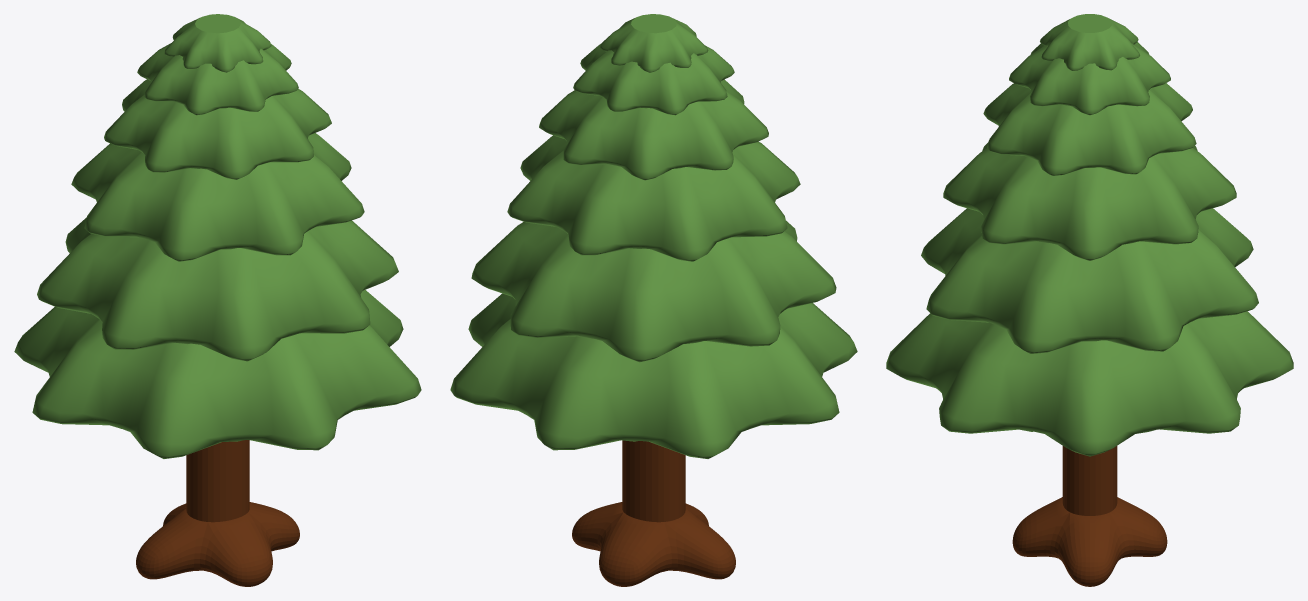
Rendered from tree04.fbx.
The picture shows the model from 3 angles, left to right: view 1: azimuth 30°, elevation 25°; view 2: azimuth 150°, elevation 25°; view 3: azimuth 270°, elevation 25°; orthographic projection.
Parts seen in each view (by area): view 1: Root, Root.001; view 2: Root, Root.001; view 3: Root, Root.001.
Boxes of the visible parts, box(x1,y1,x2,y2) form: Root: box(14, 14, 421, 522); Root.001: box(136, 502, 299, 586); Root: box(450, 14, 857, 522); Root.001: box(572, 502, 735, 586); Root: box(886, 14, 1293, 515); Root.001: box(1012, 497, 1167, 586).
Size of the model in its own units: 1838 by 2593 by 1807.
